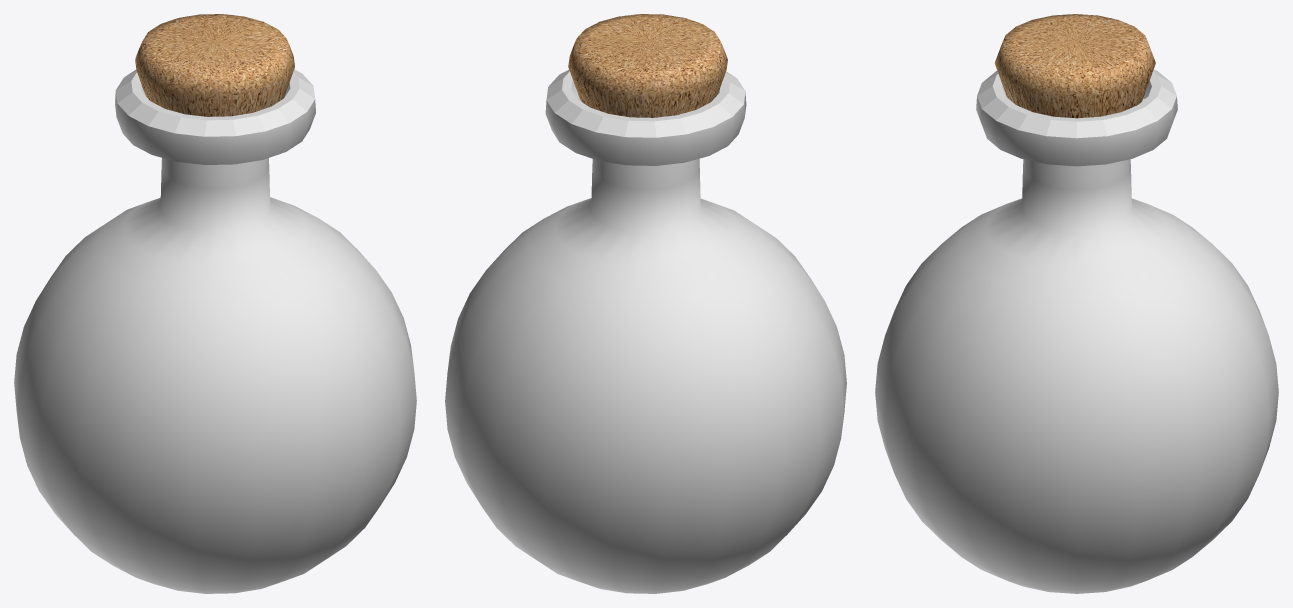
File: pocion.glb
3 views of the same model, side by side, from view 1: azimuth 30°, elevation 25°; view 2: azimuth 150°, elevation 25°; view 3: azimuth 270°, elevation 25° (orthographic).
Visible parts, largest first — view 1: pSphere1, pSphere2; view 2: pSphere1, pSphere2; view 3: pSphere1, pSphere2.
Part boxes in pixels (x1,y1,x2,y2): pSphere1: (14,69,416,593); pSphere2: (135,14,294,116); pSphere1: (445,69,846,593); pSphere2: (568,14,727,117); pSphere1: (875,69,1278,593); pSphere2: (994,14,1155,118).
Size of the model in its own units: 2.26 by 3.3 by 2.26.
Materials: 3 (2 with a texture image).
